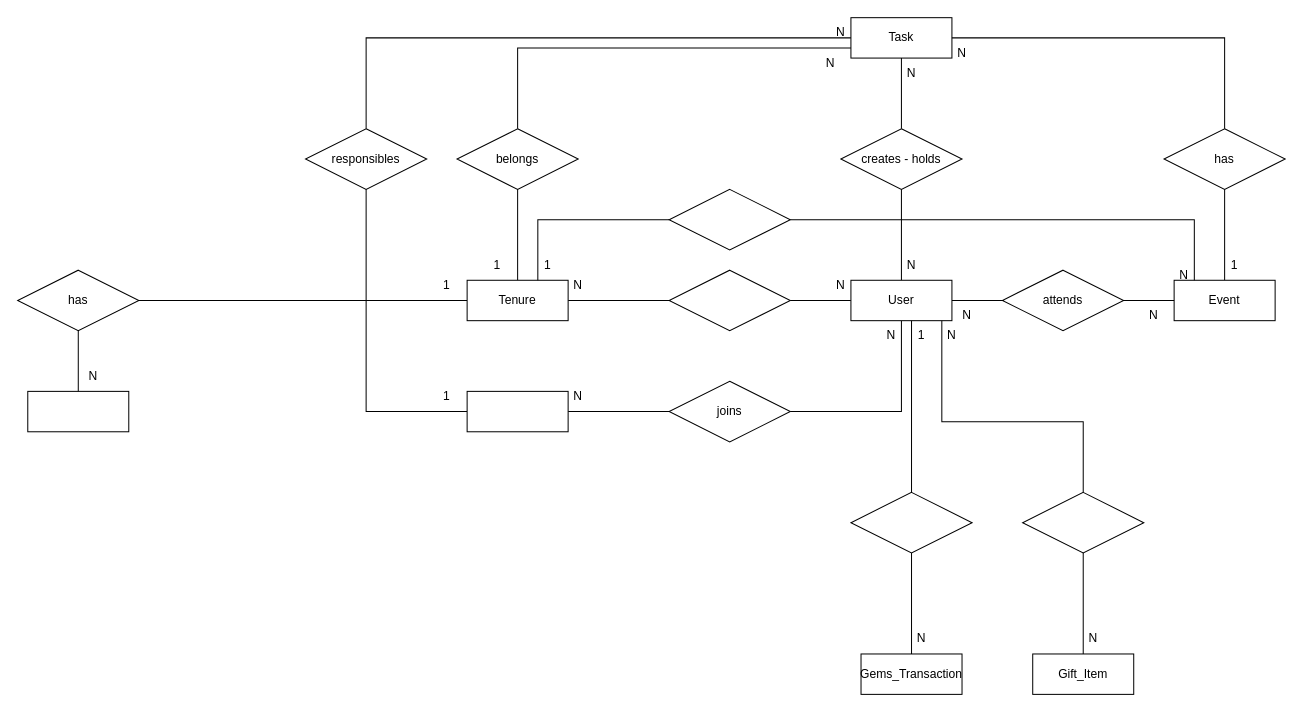
The diagram is 1303 pixels wide and 712 high, and some of its shapes have lost their labels. The box of each missing label's shape, as (x1, y1, x2, y2) in pixels:
Department: (466, 390, 568, 432)
Drive_Asset: (27, 390, 129, 432)
exchange: (1022, 491, 1144, 553)
holds: (668, 269, 790, 331)
logs: (850, 491, 972, 553)
records: (668, 188, 790, 250)
